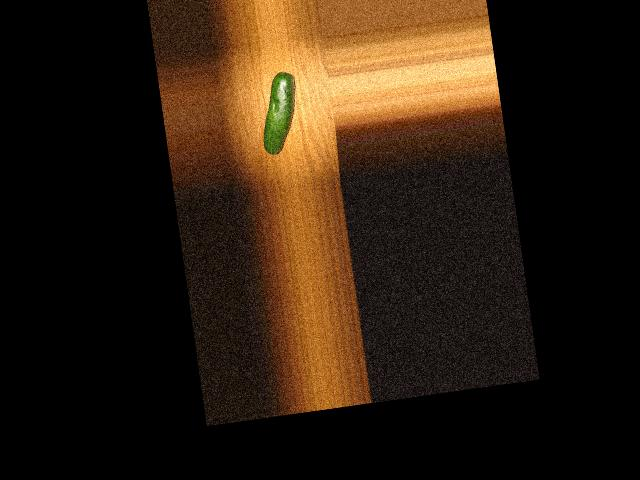cucumber: (255, 71, 304, 156)
